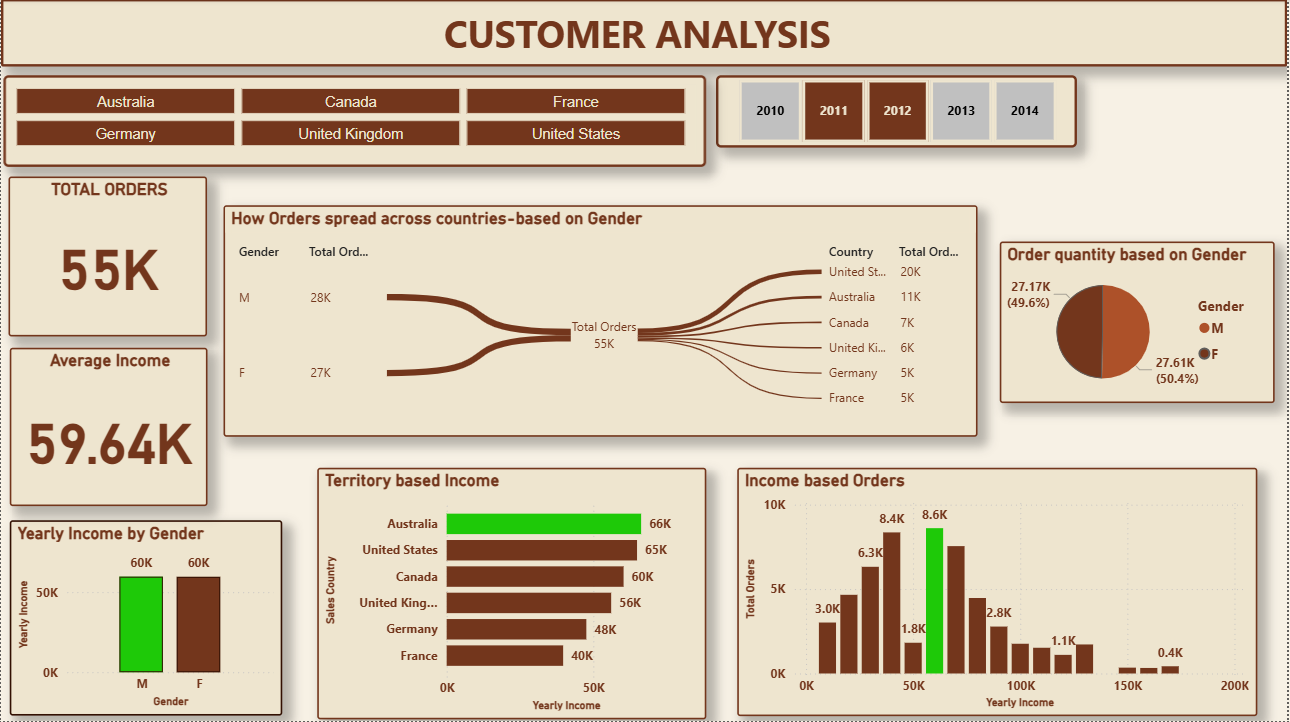

The dashboard page shown, as its layout file describes it:
{"tool":"powerbi","page":{"name":"CUSTOMER ANALYSIS","canvas":[1280,720],"ordinal":0},"visuals":[{"type":"pieChart","title":"Order quantity based on Gender","fields":{"Category":["vw_ftinternetsales.gender"],"Y":["CountNonNull(vw_ftinternetsales.orderquantity)"]},"box":[993.9,241.3,273.7,160.5],"z":0},{"type":"textbox","box":[0,0,1280.3,67.2],"z":1000},{"type":"slicer","title":"YEARS","fields":{"Values":["vw_ftinternetsales.calendaryear"]},"box":[711.5,75.9,359.5,72.1],"z":2000},{"type":"ChicletSlicer1448559807354","title":"COUNTRIES","fields":{"Category":["vw_ftinternetsales.salesterritorycountry"]},"box":[2.5,75.9,699.1,90.8],"z":3000},{"type":"clusteredColumnChart","title":"Yearly Income by Gender","fields":{"Category":["vw_ftinternetsales.gender"],"Y":["Avg(vw_ftinternetsales.yearlyincome)"]},"box":[8.7,518.7,271.2,194.1],"z":4000},{"type":"card","title":"TOTAL ORDERS","fields":{"Values":["DimProductCategory.total_orders"]},"box":[7.5,176.6,197.8,159.2],"z":5000},{"type":"clusteredColumnChart","title":"Income based Orders","fields":{"Category":["vw_ftinternetsales.yearlyincome"],"Y":["DimProductCategory.total_orders"]},"box":[732.7,466.5,517.5,247.5],"z":6000},{"type":"card","title":"Average Income","fields":{"Values":["measures (3).Income"]},"box":[8.7,347.1,196.5,158],"z":7000},{"type":"clusteredBarChart","title":"Territory based Income","fields":{"Category":["vw_ftinternetsales.salesterritorycountry"],"Y":["measures (3).Income"]},"box":[314.7,466.5,386.9,250],"z":8000},{"type":"BowtieChart1465021618681","title":"How Orders spread across countries-based on Gender","fields":{"Value":["DimProductCategory.total_orders"],"Destination":["vw_ftinternetsales.gender"],"Source":["vw_ftinternetsales.salesterritorycountry"]},"box":[221.4,205.3,750.1,230.1],"z":8001}]}

Visuals, with their boxes in screenshot pixels (x1, y1, x2, y2), scaled from the page's 1280x720 canvas onto the 1290x722 screenshot:
"Order quantity based on Gender" pieChart: 1002:242:1278:403
textbox: 0:0:1289:67
"YEARS" slicer: 717:76:1079:148
"COUNTRIES" ChicletSlicer1448559807354: 3:76:707:167
"Yearly Income by Gender" clusteredColumnChart: 9:520:282:715
"TOTAL ORDERS" card: 8:177:207:337
"Income based Orders" clusteredColumnChart: 738:468:1260:716
"Average Income" card: 9:348:207:507
"Territory based Income" clusteredBarChart: 317:468:707:718
"How Orders spread across countries-based on Gender" BowtieChart1465021618681: 223:206:979:437
